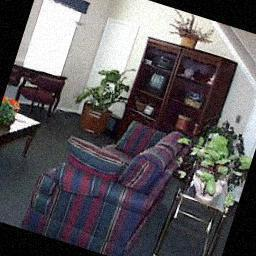Matera: (64, 56, 134, 141)
Sanitario: (16, 68, 65, 121)
